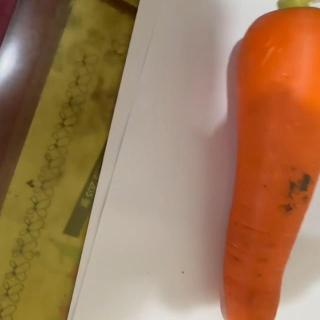carrot: (221, 0, 320, 320)
